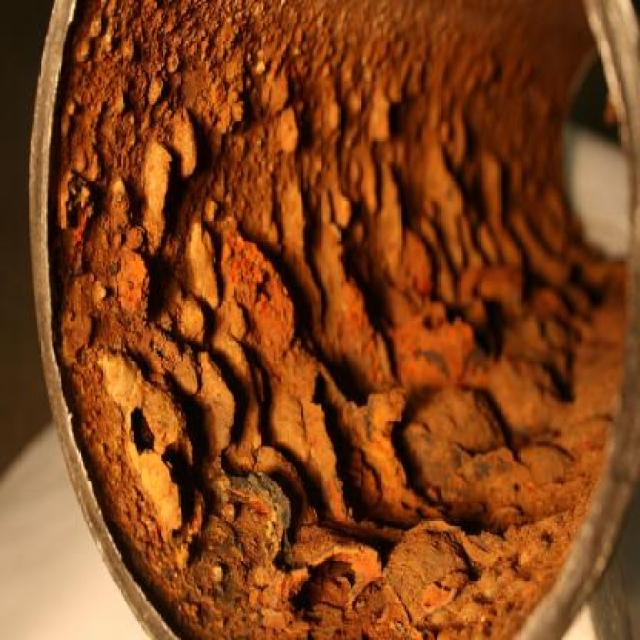corrosion: (43, 4, 640, 640)
